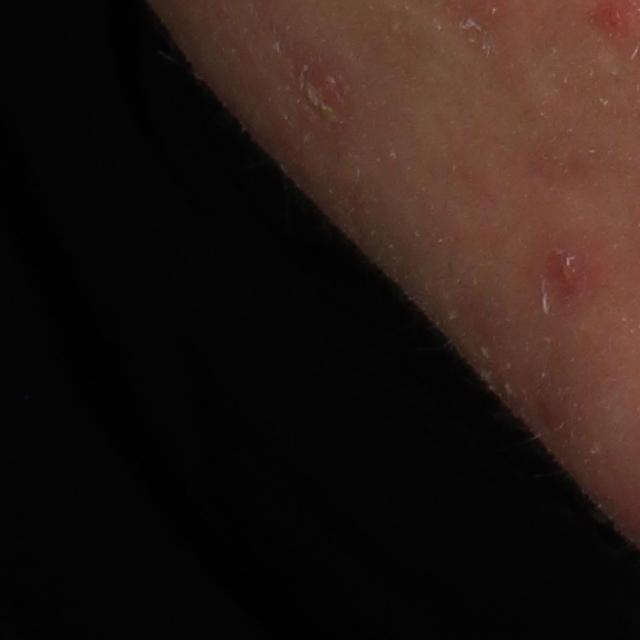papule: (291, 52, 350, 105), (548, 238, 595, 290)
